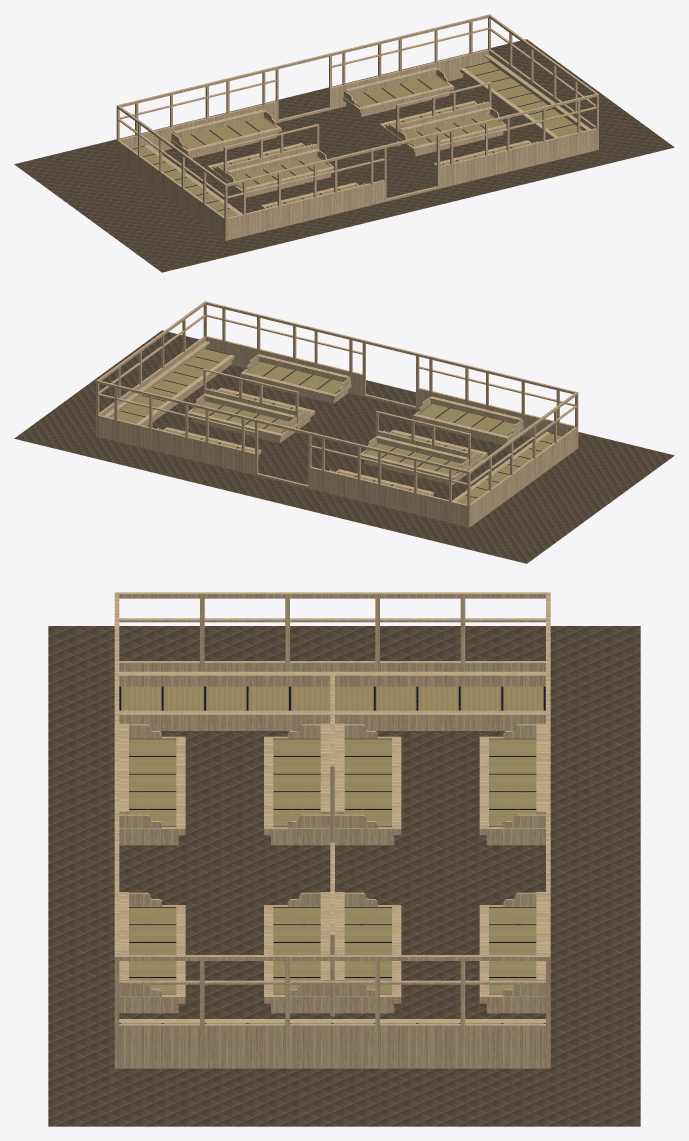
File: ZenDo.obj
The picture shows the model from 3 angles, top to bottom: view 1: azimuth 30°, elevation 25°; view 2: azimuth 150°, elevation 25°; view 3: azimuth 270°, elevation 25°; orthographic projection. The views are drawn at different scales.
Visible parts, largest first — view 1: ZenDo_1, ZenDo_2, ZenDo_0, ZenDo_3; view 2: ZenDo_1, ZenDo_2, ZenDo_0, ZenDo_3; view 3: ZenDo_1, ZenDo_2, ZenDo_3, ZenDo_0.
Boxes of the visible parts, x1,y1,x2,y2 form: ZenDo_1: [14, 39, 674, 272]; ZenDo_2: [117, 27, 596, 240]; ZenDo_0: [116, 14, 598, 240]; ZenDo_3: [132, 62, 582, 217]; ZenDo_1: [14, 330, 674, 563]; ZenDo_2: [98, 314, 577, 526]; ZenDo_0: [96, 301, 578, 527]; ZenDo_3: [111, 349, 562, 504]; ZenDo_1: [48, 626, 640, 1126]; ZenDo_2: [119, 618, 545, 1068]; ZenDo_3: [119, 686, 545, 1023]; ZenDo_0: [114, 592, 550, 1068].
Size of the model in its own units: 25 by 2.6 by 12.5.
